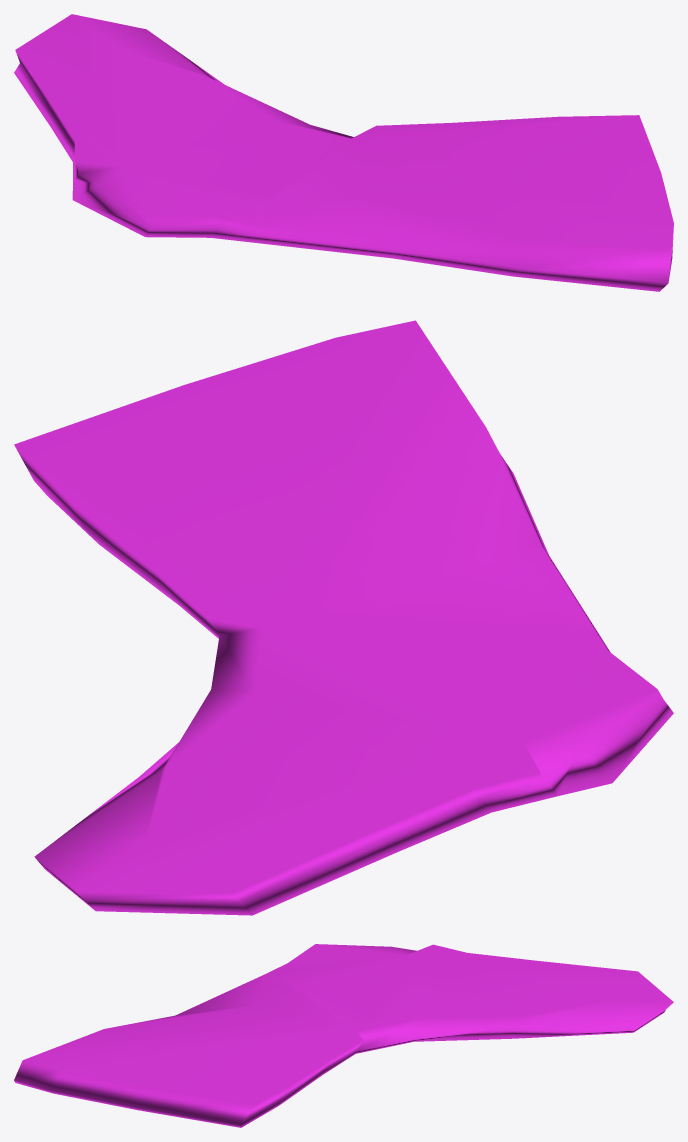
File: sock.fbx
3 renders of one model, top to bottom at view 1: azimuth 30°, elevation 25°; view 2: azimuth 150°, elevation 25°; view 3: azimuth 270°, elevation 25°, orthographic. The views are drawn at different scales.
Parts seen in each view (by area): view 1: Cube; view 2: Cube; view 3: Cube.
Boxes of the visible parts, x1,y1,x2,y2 form: Cube: (14, 14, 673, 291); Cube: (14, 320, 673, 915); Cube: (14, 944, 673, 1127).
Size of the model in its own units: 110 by 8.07 by 165.
